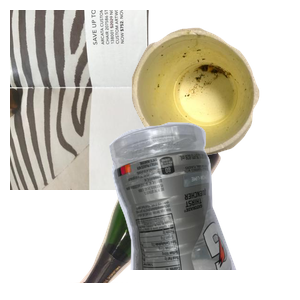glass: (66, 120, 279, 300)
paper: (10, 10, 250, 190)
plastic: (106, 120, 300, 300)
trash: (129, 25, 300, 173)
